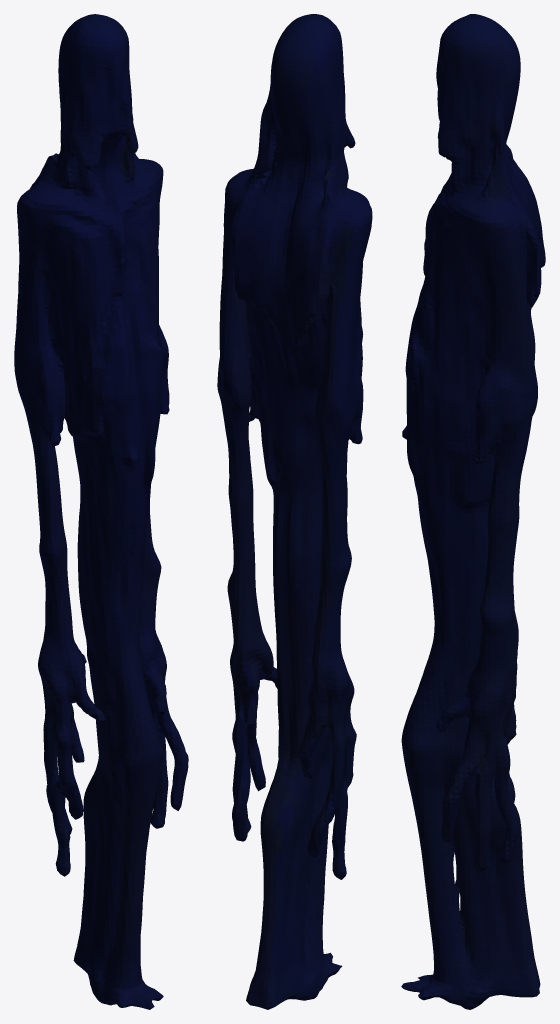
Rendered from garak_horror9.glb.
3 renders of one model, left to right at view 1: azimuth 30°, elevation 25°; view 2: azimuth 150°, elevation 25°; view 3: azimuth 270°, elevation 25°, orthographic.
Parts seen in each view (by area): view 1: horror9.obj; view 2: horror9.obj; view 3: horror9.obj.
Part boxes in pixels (x1=…): horror9.obj: x1=14, y1=14, x2=188, y2=1009; horror9.obj: x1=217, y1=14, x2=372, y2=1009; horror9.obj: x1=401, y1=14, x2=545, y2=1009.
Bounding box in the file's own units: 0.2039 × 1.32 × 0.1774.
1 material, 1 textured.
